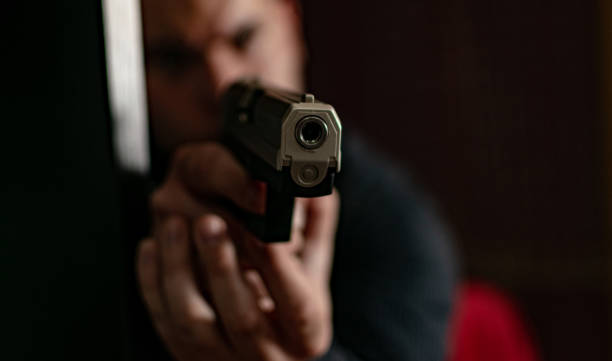gun: (215, 73, 344, 244)
